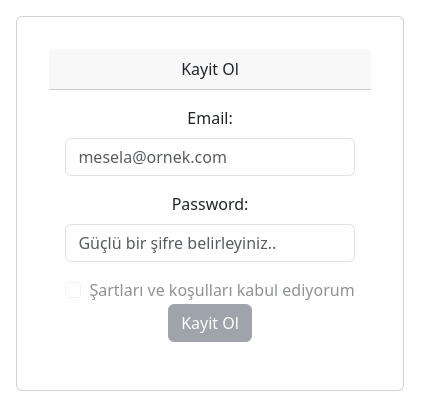
Scenario: Login sayfası başarılı form doldurulduğunda › Başarılı form doldurulduğunda submit edebiliyorum
The width and height of the screenshot is (421, 408).
Type "test@test.com" into the field with test id "email-input". click: (210, 157)
box: [65,138,354,176]
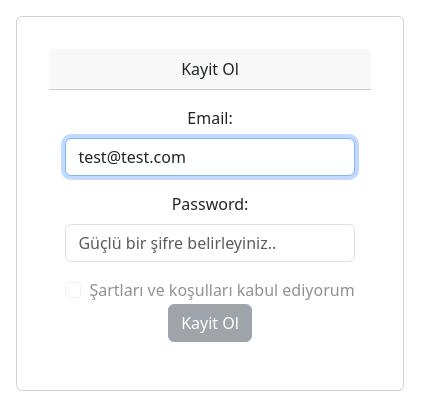
Type "Password#123" into the password field with test id "password-input". click: (210, 243)
box: [65,224,354,262]
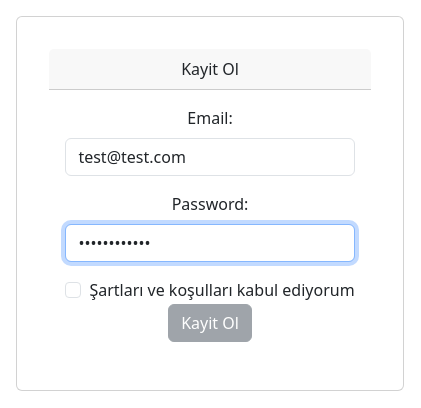
Check the checkbox with test id "terms-checkbox". click: (73, 290)
box: [65,282,81,298]
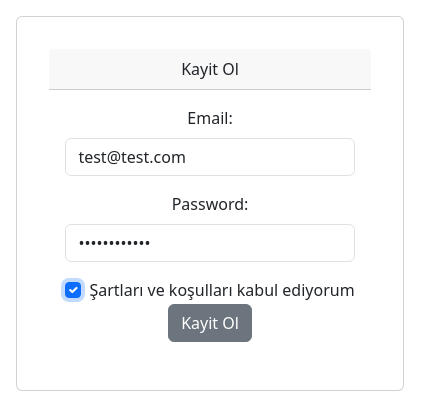
Click the button with test id "submit-button". click: (210, 323)
box: [168,304,252,342]
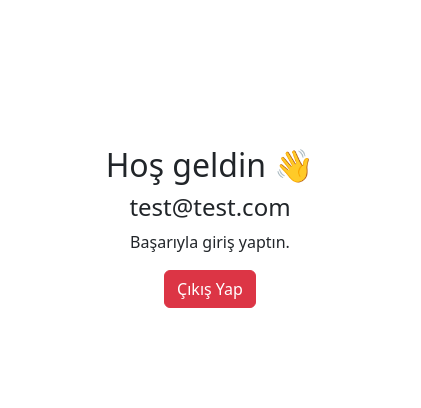
Result: the text "Başarıyla giriş yaptın." is shown at [130,231,290,253]
